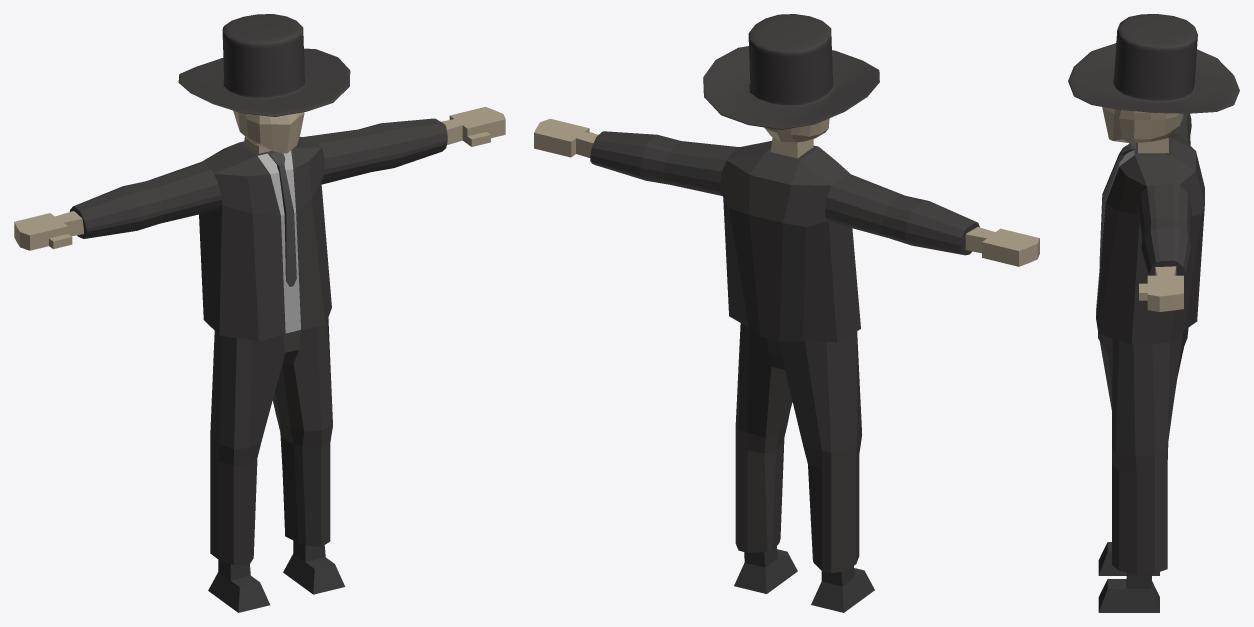
File: Business_man.fbx
The picture shows the model from 3 angles, left to right: view 1: azimuth 30°, elevation 25°; view 2: azimuth 150°, elevation 25°; view 3: azimuth 270°, elevation 25°; orthographic projection. The views are drawn at different scales.
Parts seen in each view (by area): view 1: Business_man; view 2: Business_man; view 3: Business_man.
Boxes of the visible parts, x1,y1,x2,y2 form: Business_man: (14, 14, 505, 612); Business_man: (534, 14, 1039, 612); Business_man: (1068, 14, 1239, 612).
Size of the model in its own units: 180 by 197 by 54.83.
